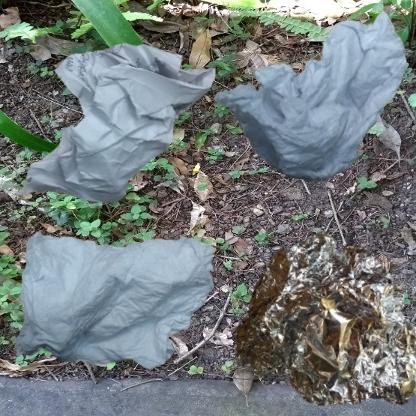aluminio: (213, 213, 416, 416)
papel: (10, 10, 242, 269), (10, 213, 229, 388), (213, 10, 409, 184)
